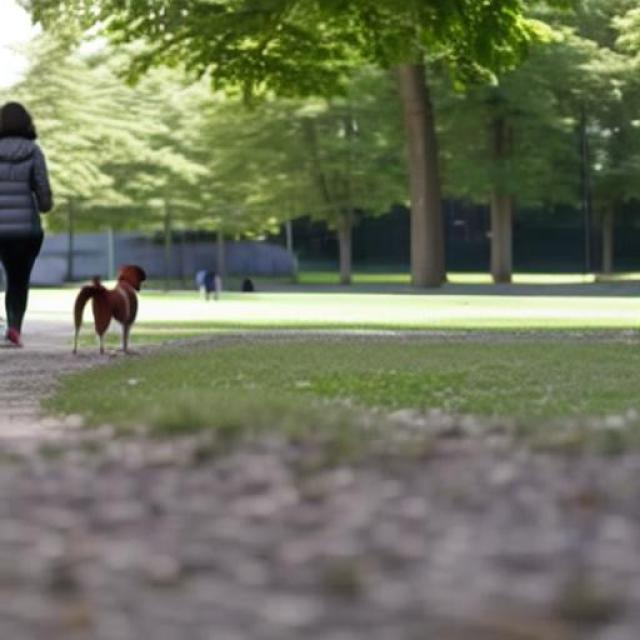Unleashed_Dog: (0, 192, 148, 358)
